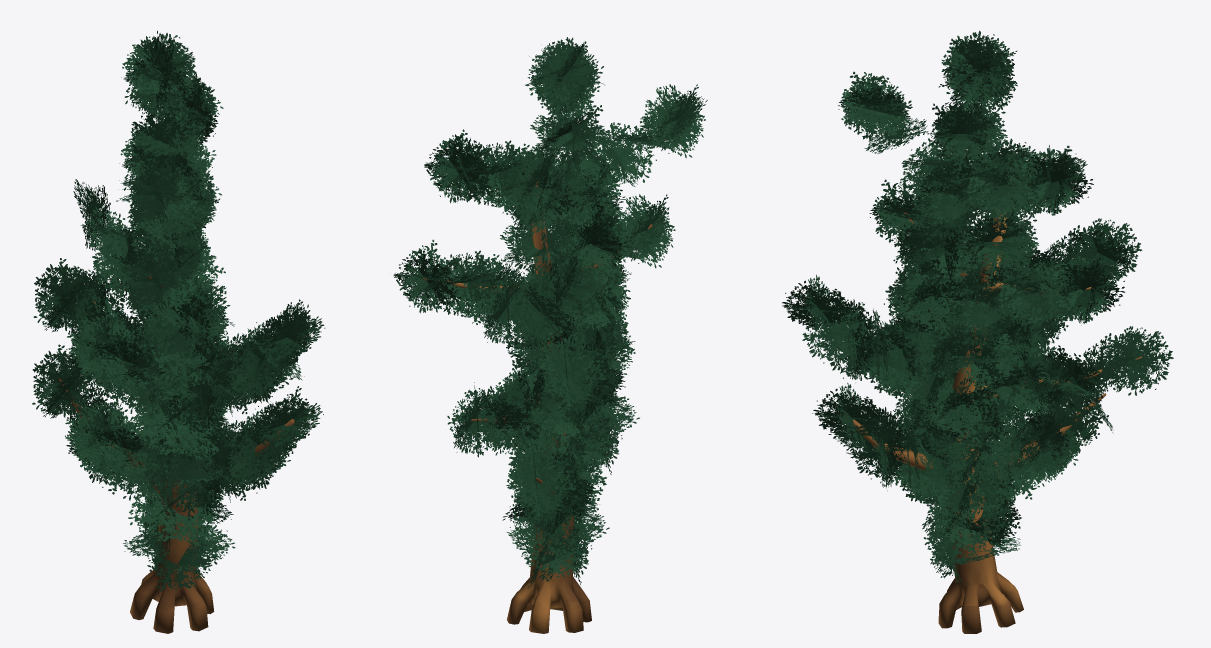
Rendered from tree_3_textured.fbx.
The picture shows the model from 3 angles, left to right: view 1: azimuth 30°, elevation 25°; view 2: azimuth 150°, elevation 25°; view 3: azimuth 270°, elevation 25°; orthographic projection.
Visible parts, largest first — view 1: tree_3; view 2: tree_3; view 3: tree_3.
Part boxes in pixels (x1,y1,x2,y2): tree_3: (32,30,325,633); tree_3: (393,37,707,633); tree_3: (782,30,1173,633).
Size of the model in its own units: 2578 by 6288 by 4183.
2 materials, 2 textured.
